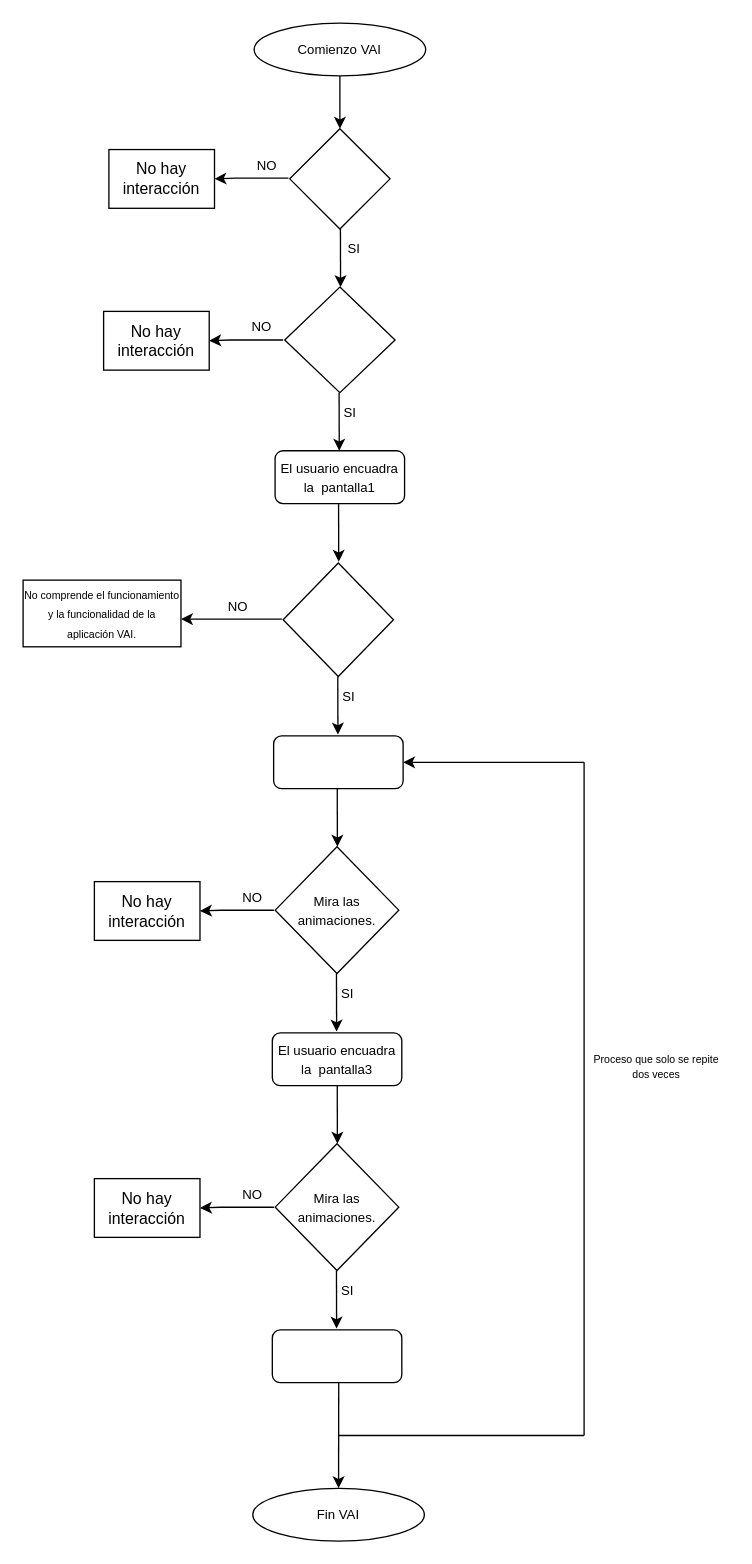
Image size: 752x1564. Some labels were removed from this diagram. The centre of each missing label's shape, as x and y in pixels:
"El usuario encuadra la pantalla2" belongs at point (337, 762).
"El usuario encuadra la pantalla4" belongs at point (336, 1356).
"El usurio toma la tableta" belongs at point (339, 339).
"Entrada usuario en VAI" belongs at point (339, 178).
"Mira el Tutorial" belongs at point (337, 619).
